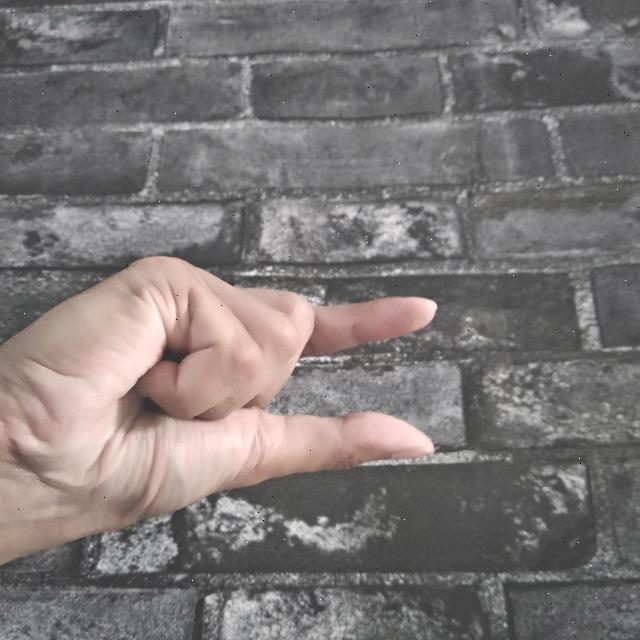G: (0, 254, 446, 568)
